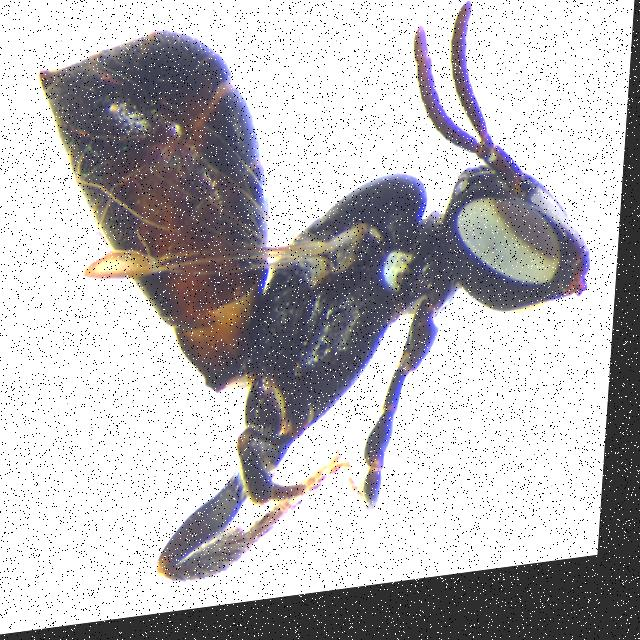Braunsapis: (12, 0, 621, 608)
